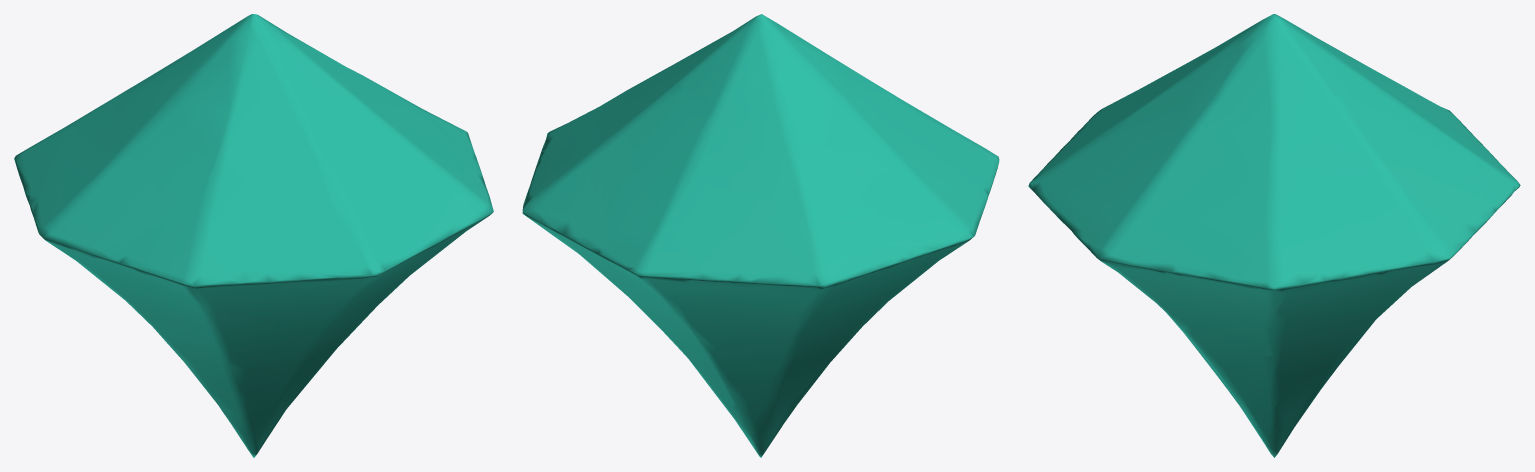
Rendered from gen3d-diamond-kite-lod0.glb.
3 renders of one model, left to right at view 1: azimuth 30°, elevation 25°; view 2: azimuth 150°, elevation 25°; view 3: azimuth 270°, elevation 25°, orthographic.
Visible parts, largest first — view 1: part_0; view 2: part_0; view 3: part_0.
Part boxes in pixels (x1,y1,x2,y2): part_0: (14, 14, 493, 457); part_0: (522, 14, 999, 457); part_0: (1028, 14, 1520, 457).
Size of the model in its own units: 1 by 1 by 1.01.
